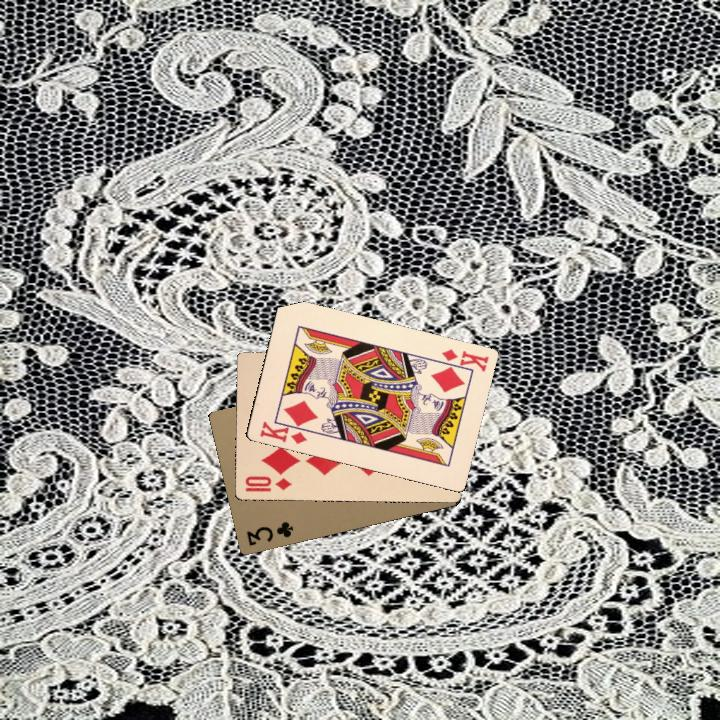10d: (241, 472, 294, 494)
3c: (242, 517, 296, 548)
Kd: (256, 415, 310, 447), (432, 345, 491, 374)
